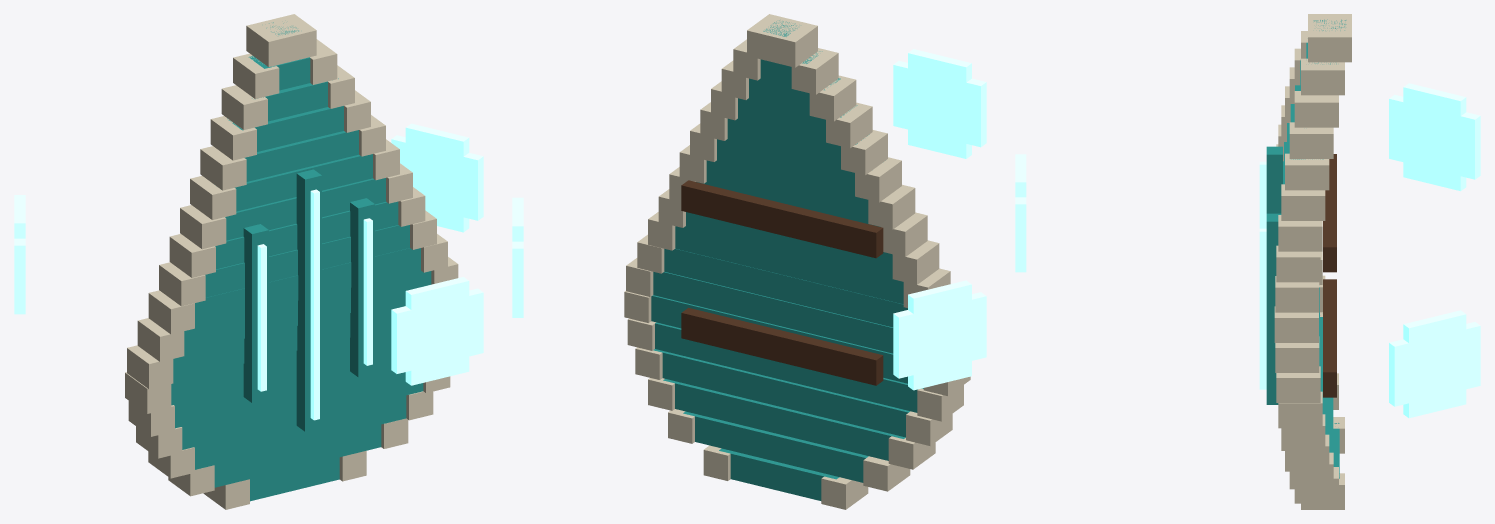
3 views of the same model, side by side, from view 1: azimuth 30°, elevation 25°; view 2: azimuth 150°, elevation 25°; view 3: azimuth 270°, elevation 25° (orthographic).
Parts seen in each view (by area): view 1: R048_Main, R048_Accent, R048_Aura_Plates, R048_Glow; view 2: R048_Main, R048_Accent, R048_Aura_Plates, R048_Trim; view 3: R048_Accent, R048_Aura_Plates, R048_Main, R048_Trim, R048_Glow.
Part boxes in pixels (<box>): R048_Main: <box>171,22,431,501</box>; R048_Accent: <box>125,14,458,509</box>; R048_Aura_Plates: <box>14,123,483,385</box>; R048_Glow: <box>257,189,372,420</box>; R048_Main: <box>651,20,923,500</box>; R048_Accent: <box>624,14,970,509</box>; R048_Aura_Plates: <box>512,49,986,390</box>; R048_Trim: <box>681,180,883,385</box>; R048_Accent: <box>1274,14,1351,509</box>; R048_Aura_Plates: <box>1015,83,1480,418</box>; R048_Main: <box>1266,19,1346,478</box>; R048_Trim: <box>1323,154,1336,397</box>; R048_Glow: <box>1259,161,1266,389</box>.
Bounding box in the file's own units: 1.95 × 1.8 × 1.69.
